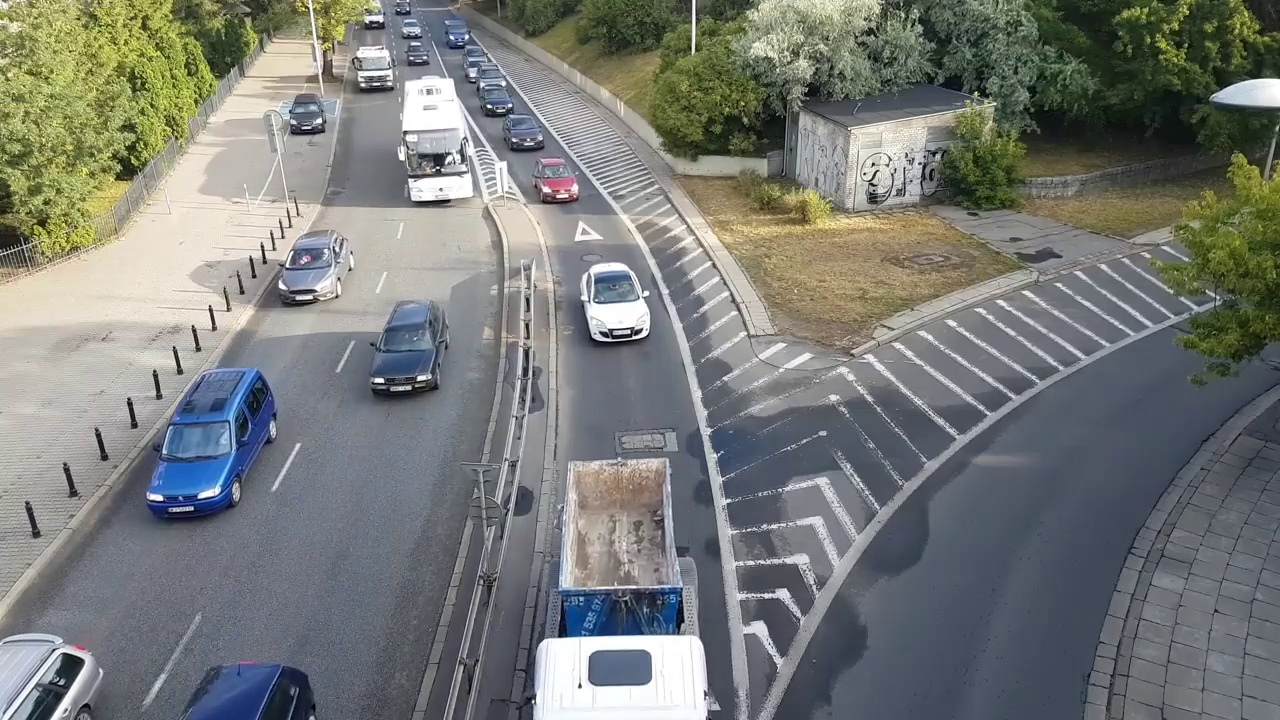car: (537, 465, 716, 720), (150, 369, 280, 519), (399, 78, 474, 202), (1, 635, 109, 720), (374, 302, 450, 400), (271, 230, 352, 304), (581, 264, 649, 348), (531, 156, 582, 207), (501, 111, 543, 155), (355, 47, 395, 91), (290, 94, 324, 137), (480, 83, 516, 117), (476, 61, 508, 95), (445, 26, 471, 49), (406, 40, 429, 64)
